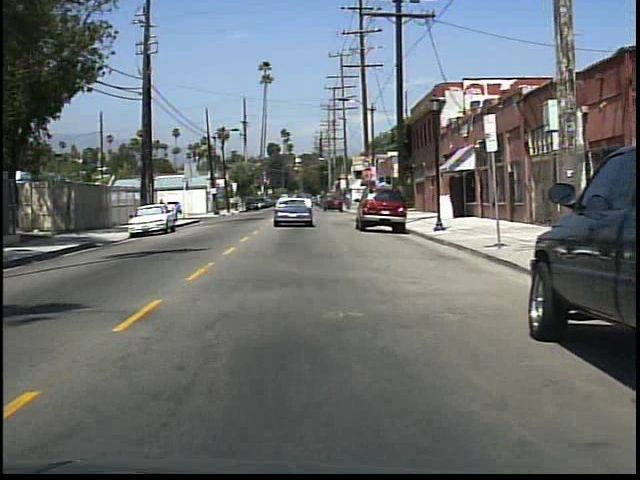person: (170, 199, 183, 223)
